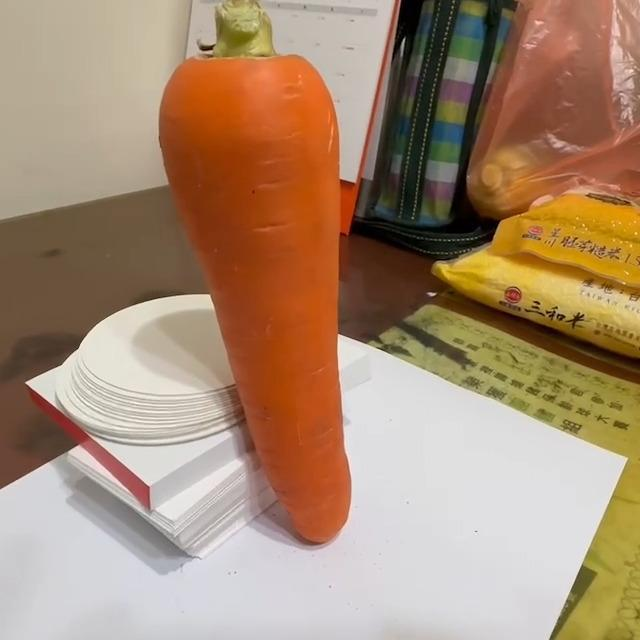carrot: (160, 1, 353, 546)
